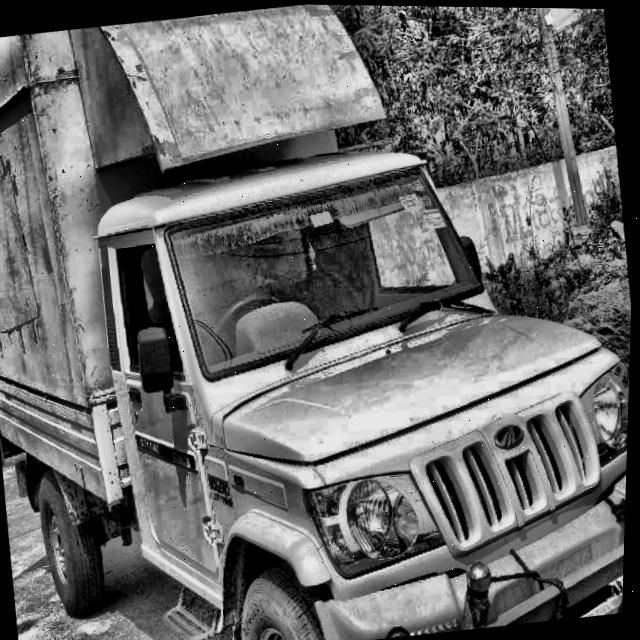light_vehicle: (0, 14, 640, 640)
